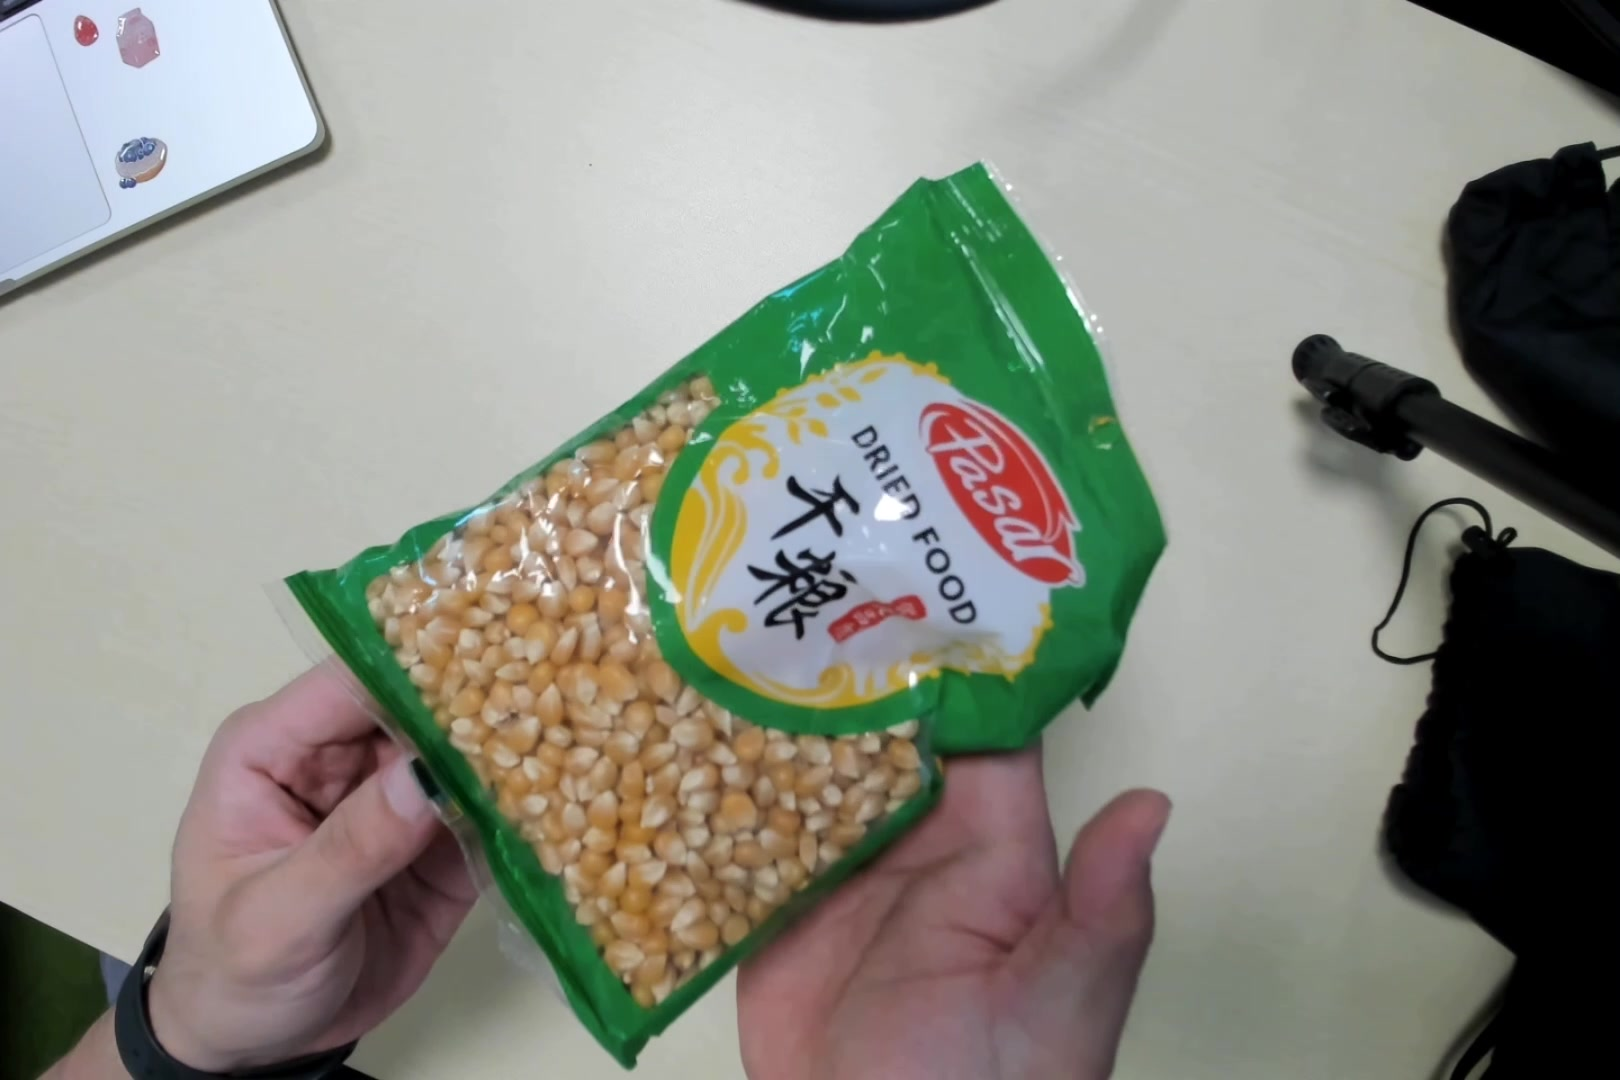DriedBeans(RedGreenSdy)_400-499g_NonHalal_NonHealthy: (272, 162, 1169, 1080)
